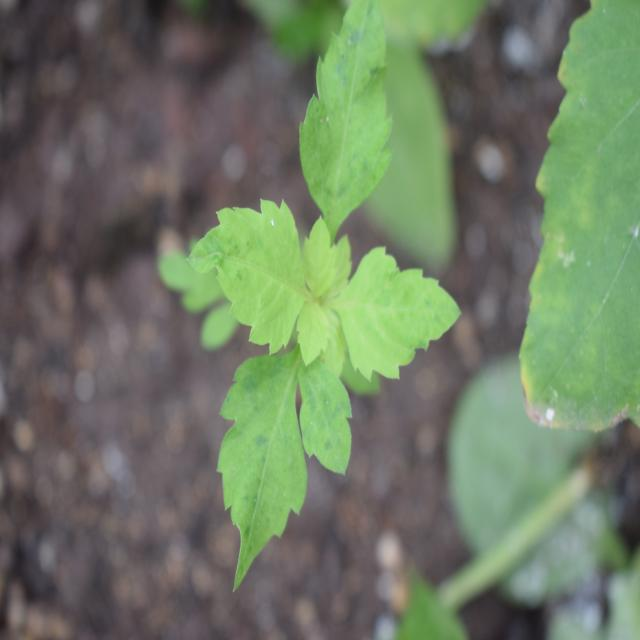Bidens pilosa: (178, 0, 466, 584)
